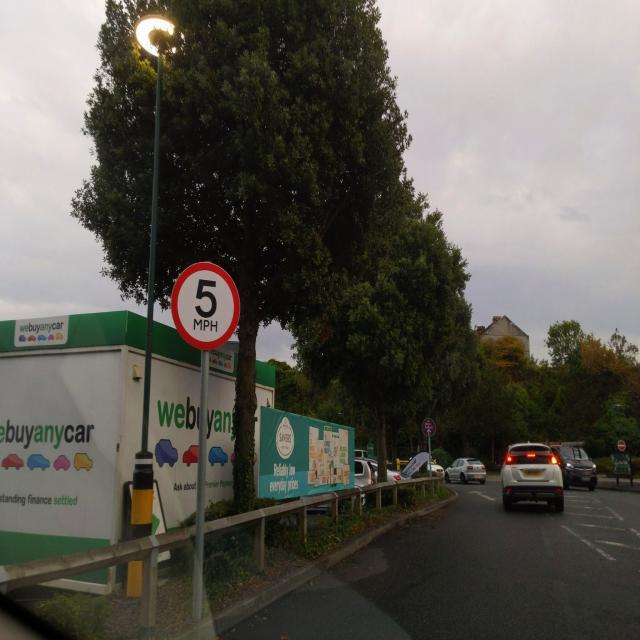car: (500, 442, 565, 512), (554, 442, 598, 492), (401, 452, 445, 481), (443, 457, 487, 484), (354, 451, 375, 488)
